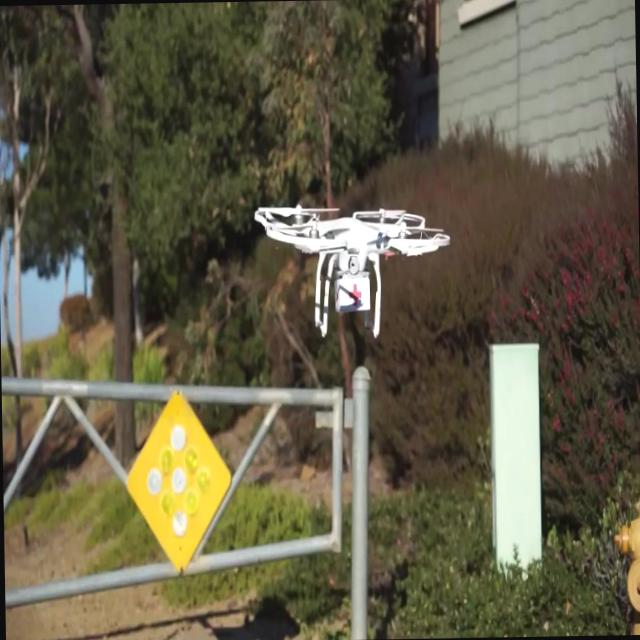drone: (256, 198, 452, 344)
